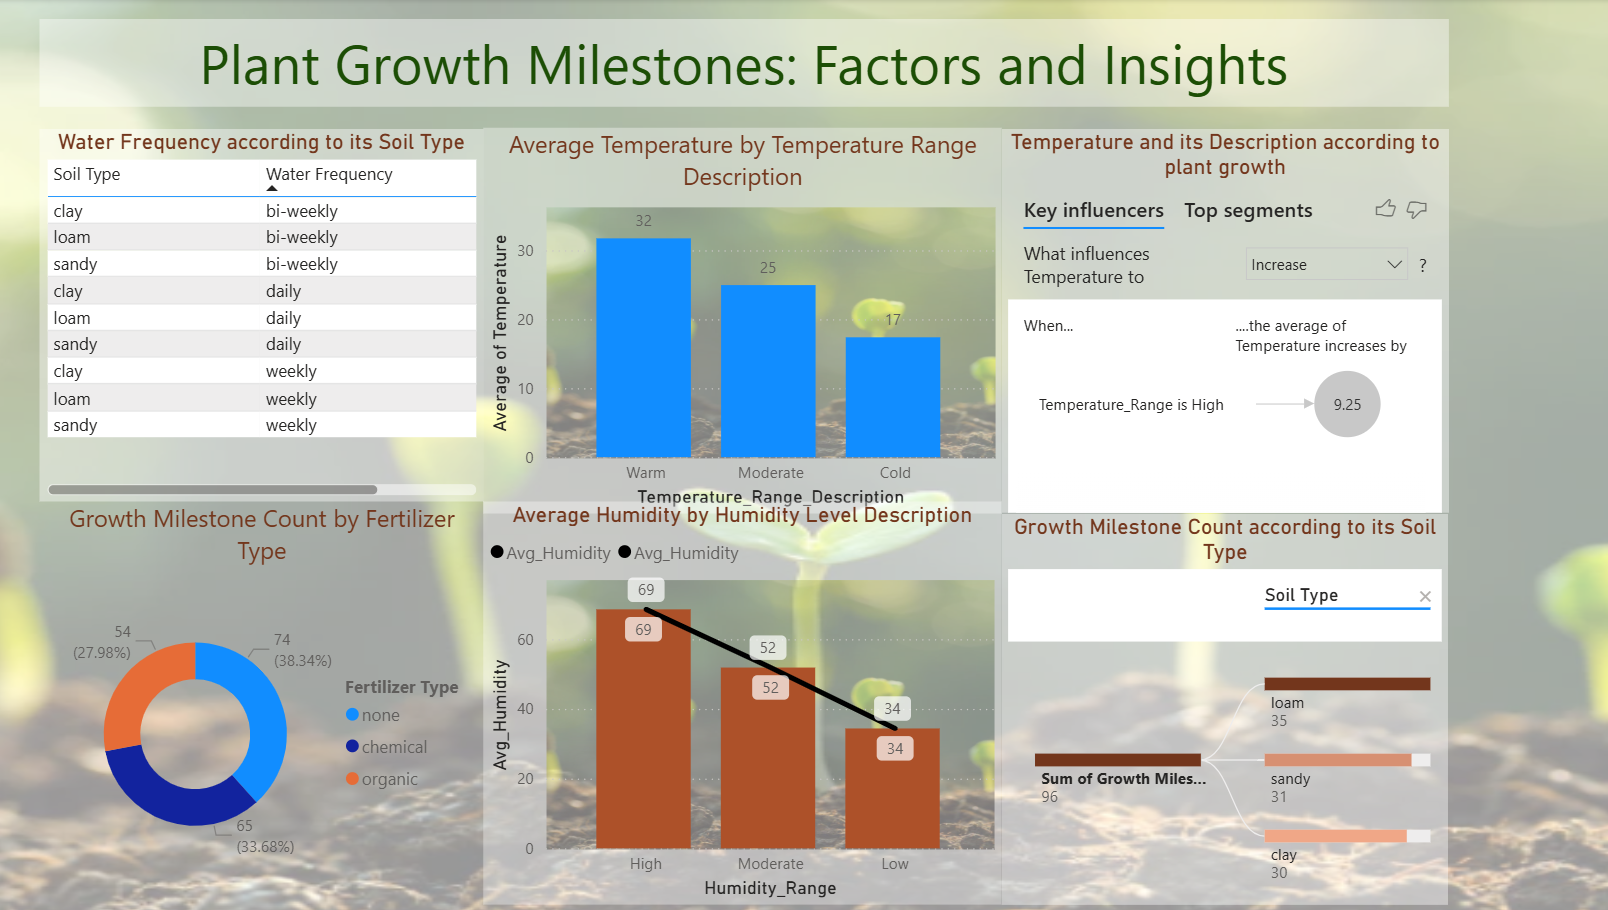

The dashboard page shown, as its layout file describes it:
{"tool":"powerbi","page":{"name":"Dashboard","canvas":[1280,720],"ordinal":0},"visuals":[{"type":"tableEx","title":"Water Frequency according to its Soil Type","fields":{"Values":["plant_growth_data.Soil Type","plant_growth_data.Water Frequency"]},"box":[33.3,102.2,347.8,292.2],"z":0},{"type":"clusteredColumnChart","title":"Average Temperature by Temperature Range Description","fields":{"Category":["plant_growth_data.Temperature_Range_Description"],"Y":["Avg(plant_growth_data.Temperature)"]},"box":[381.1,101.1,406.7,302.2],"z":1000},{"type":"keyDriversVisual","title":"Temperature and its Description according to plant growth","fields":{"Target":["plant_growth_data.Temperature"],"ExplainBy":["plant_growth_data.Temperature_Range_Description"]},"box":[787.8,102.2,350,301.1],"z":2000},{"type":"donutChart","title":"Growth Milestone Count by Fertilizer Type","fields":{"Category":["plant_growth_data.Fertilizer Type"],"Y":["CountNonNull(plant_growth_data.Growth Milestone)"]},"box":[32.9,393.8,348.5,315.6],"z":3000},{"type":"lineClusteredColumnComboChart","title":"Average Humidity by Humidity Level Description","fields":{"Category":["plant_growth_data.Humidity_Level_Description"],"Y":["plant_growth_data.Avg_Humidity"],"Y2":["plant_growth_data.Avg_Humidity"]},"box":[381.5,393.8,406.2,315.6],"z":4000},{"type":"decompositionTreeVisual","title":"Growth Milestone Count according to its Soil Type","fields":{"Analyze":["Sum(plant_growth_data.Growth Milestone)"],"ExplainBy":["plant_growth_data.Soil Type"]},"box":[787.7,403.4,349.9,306],"z":5000},{"type":"textbox","box":[33.3,15.6,1104.4,68.9],"z":6000}]}

Visuals, with their boxes in screenshot pixels (x1, y1, x2, y2), scaled from the page's 1280x720 canvas onto the 1608x910 screenshot:
"Water Frequency according to its Soil Type" tableEx: bbox=(42, 129, 479, 498)
"Average Temperature by Temperature Range Description" clusteredColumnChart: bbox=(479, 128, 990, 510)
"Temperature and its Description according to plant growth" keyDriversVisual: bbox=(990, 129, 1429, 510)
"Growth Milestone Count by Fertilizer Type" donutChart: bbox=(41, 498, 479, 897)
"Average Humidity by Humidity Level Description" lineClusteredColumnComboChart: bbox=(479, 498, 990, 897)
"Growth Milestone Count according to its Soil Type" decompositionTreeVisual: bbox=(990, 510, 1429, 897)
textbox: bbox=(42, 20, 1429, 107)
